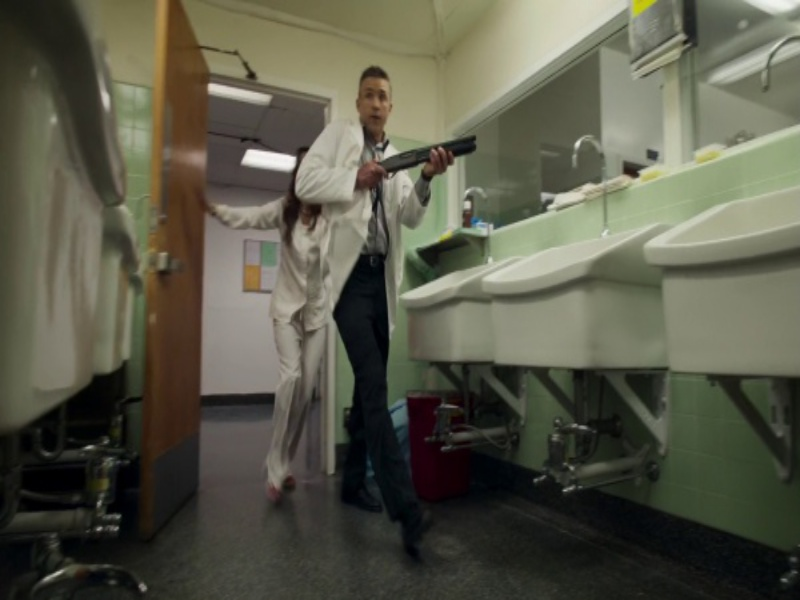person: (294, 60, 445, 544), (201, 139, 334, 496)
weapon: (365, 135, 485, 170)
